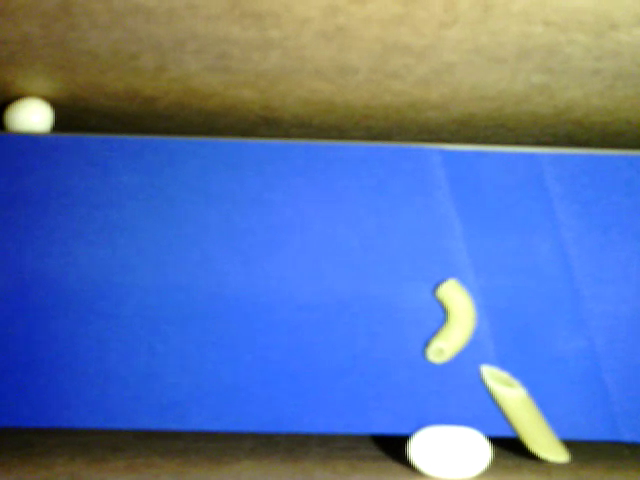elbow: (424, 277, 477, 364)
penne: (479, 363, 571, 464)
